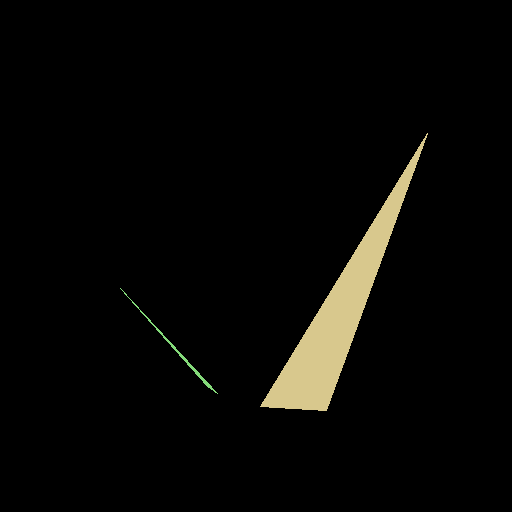triangle: (260, 133, 427, 410)
